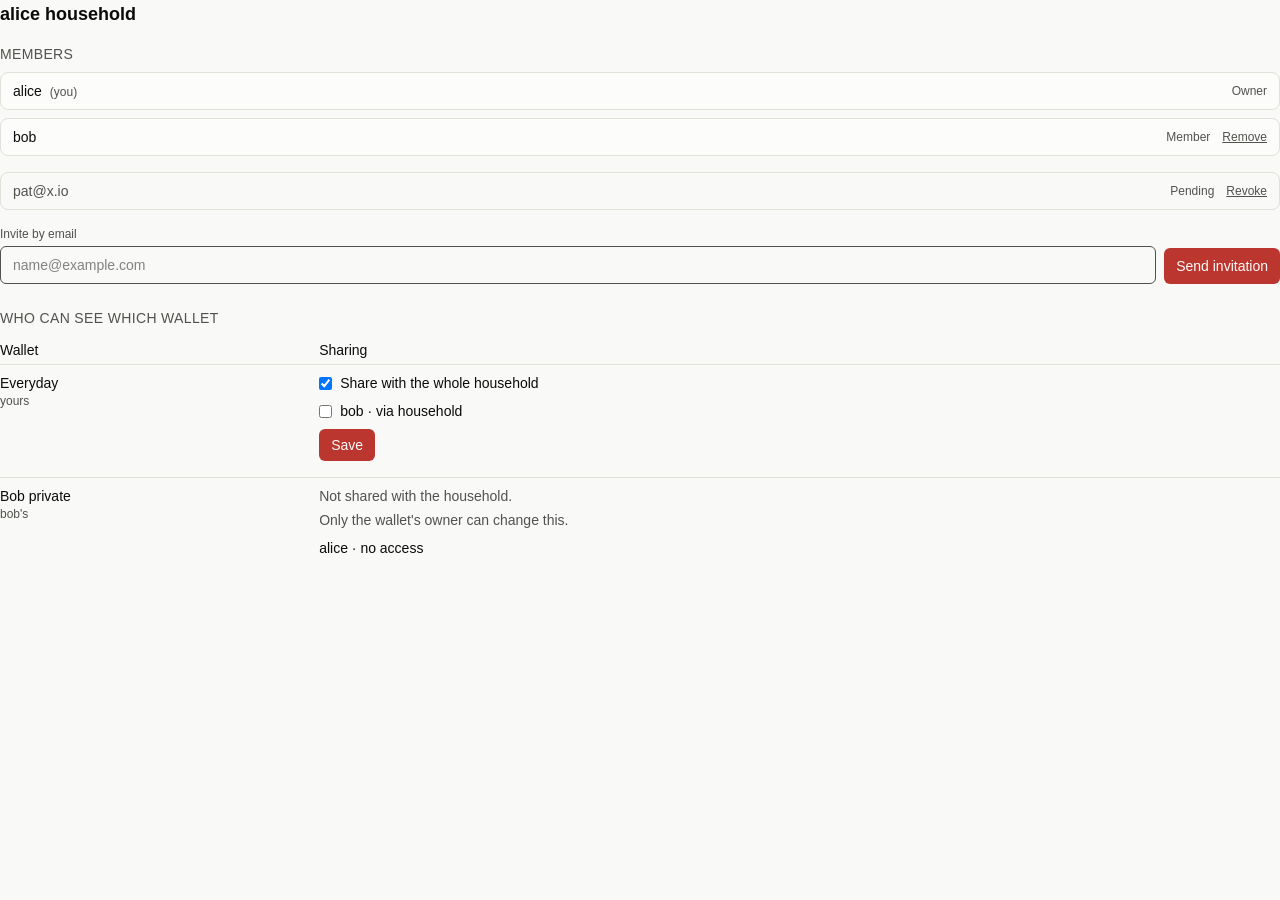
Test: HouseholdSection as the owner › asks before removing, and says what goes with them
Click the button with aria-label "Remove bob from the household": (1245, 137) [1222,129,1267,145]
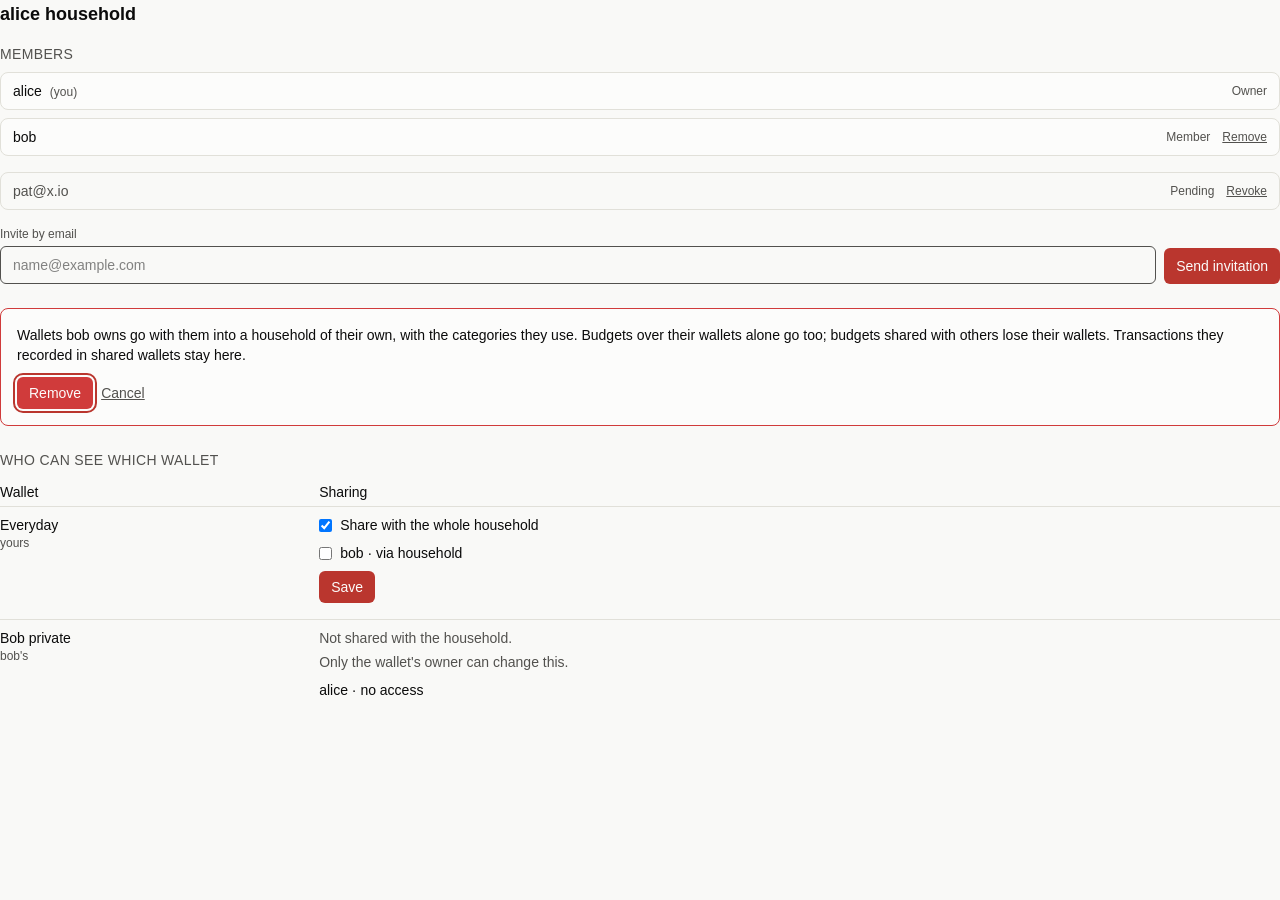
expect the dialog named "Remove bob?" shows "Wallets bob owns go with them into a household of their own": met, box [17,327,1224,363]
Click the 2nd button "Remove": (55, 393) [17,377,93,409]
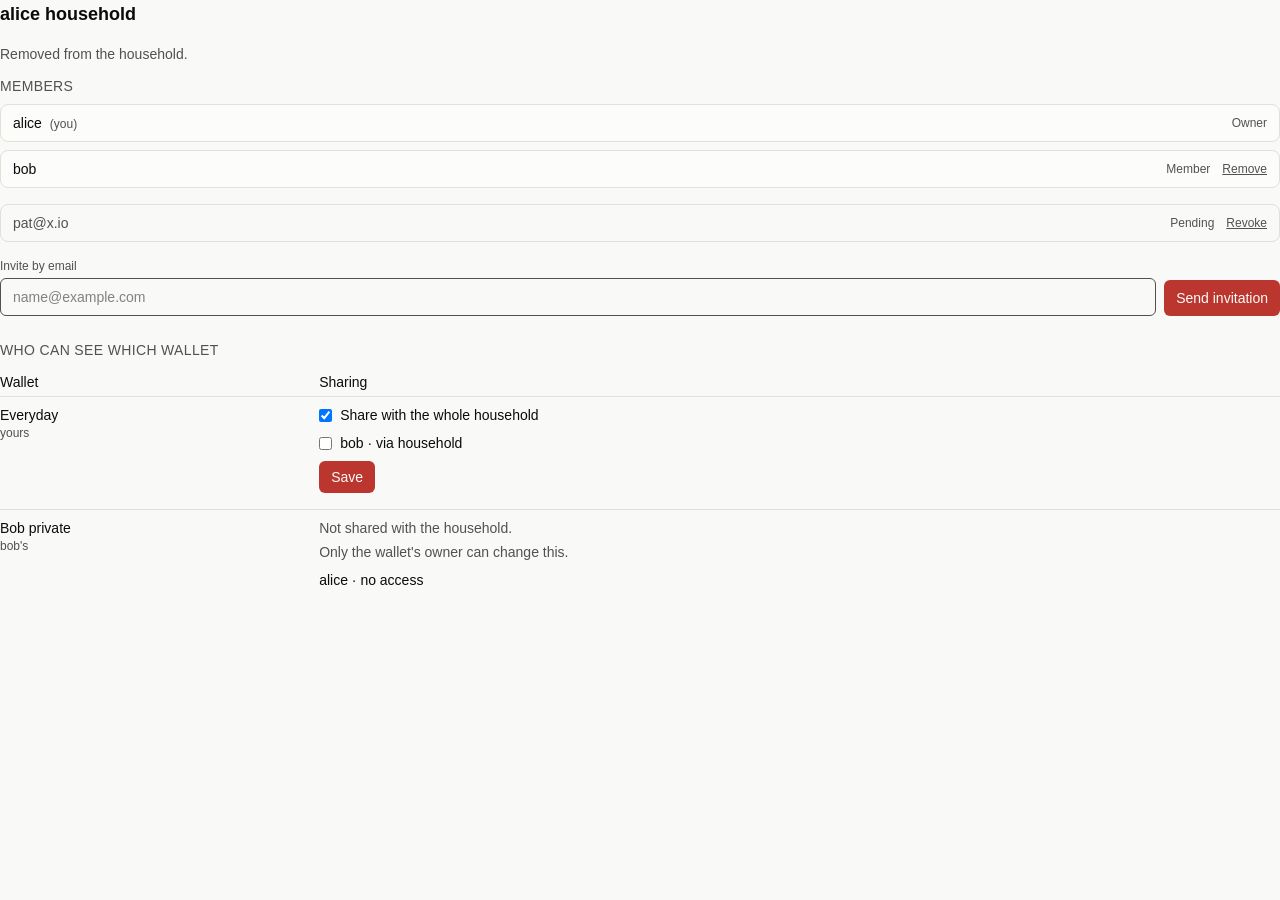
expect the text "Removed from the household." is shown: met, box [0,46,188,62]
